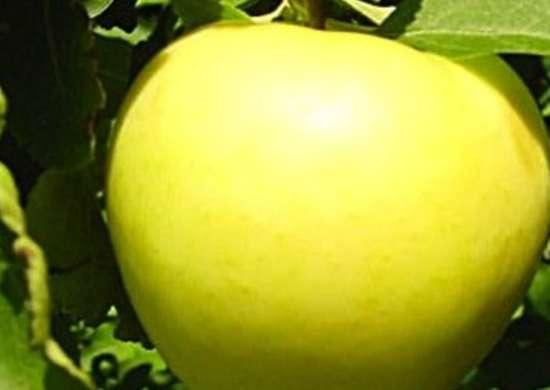apple: (101, 18, 545, 384)
